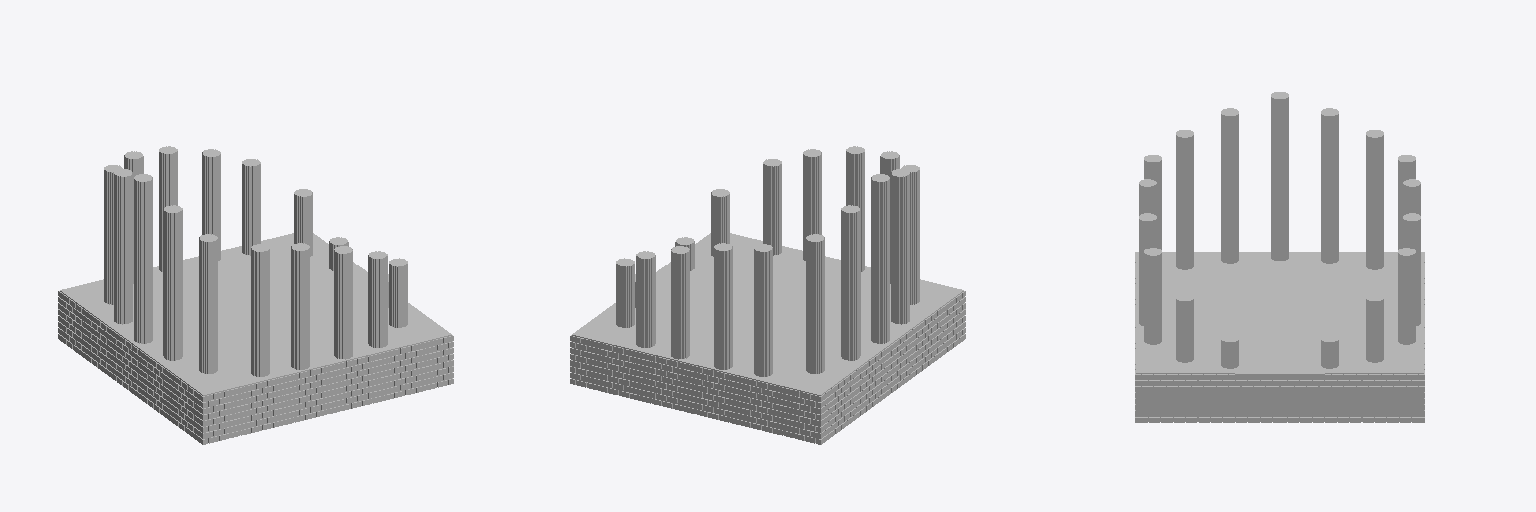
The model's file is Cloud Pedestal-2.obj.
3 renders of one model, left to right at view 1: azimuth 30°, elevation 25°; view 2: azimuth 150°, elevation 25°; view 3: azimuth 270°, elevation 25°, orthographic.
Parts seen in each view (by area): view 1: object 1; view 2: object 1; view 3: object 1.
Part boxes in pixels (bbox=[...]): object 1: bbox=[58, 146, 453, 444]; object 1: bbox=[570, 146, 965, 444]; object 1: bbox=[1135, 92, 1424, 422].
Size of the model in its own units: 25.6 by 20.6 by 25.6.